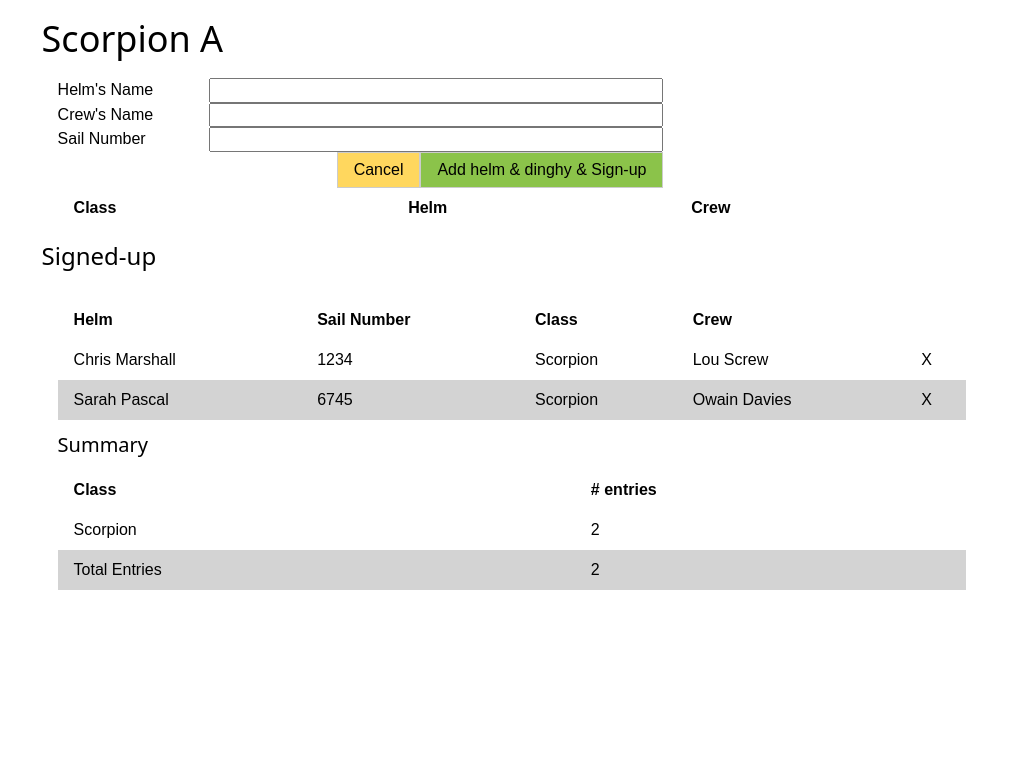
Test: when an update to an entry is cancelled › clears selected entry
Click the text "Chris Marshall". click: (125, 360)
box: 58,340 -> 309,380
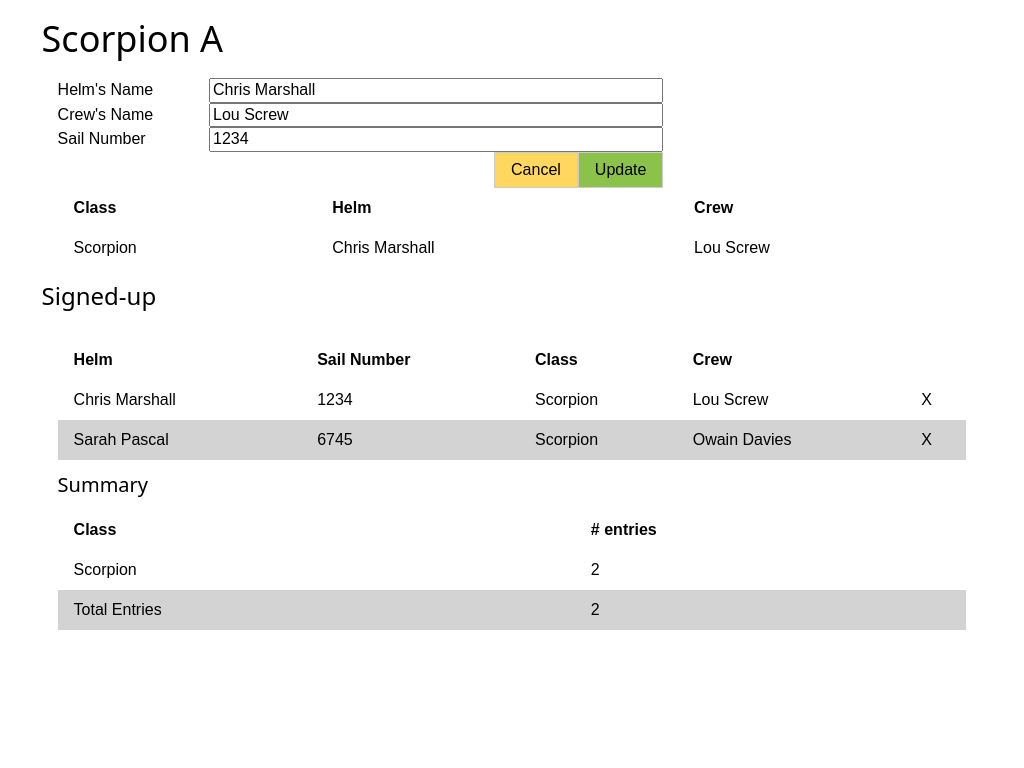
Click the button "Cancel". click: (536, 170)
box: 494,152 -> 578,188
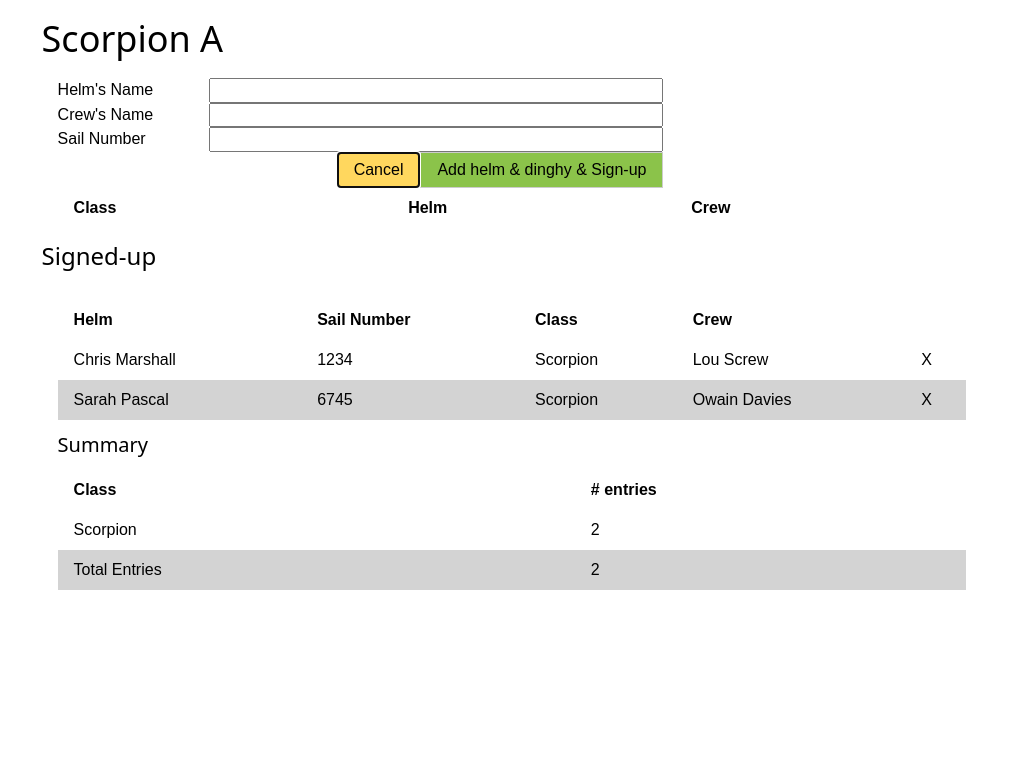
Result: the button "Update" is gone
